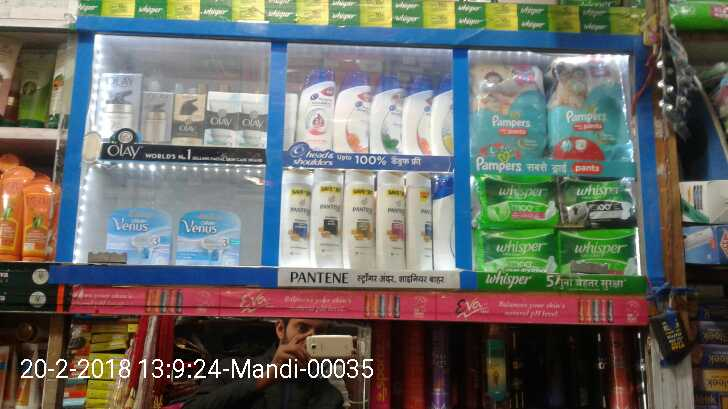venus: (173, 207, 238, 265), (107, 207, 173, 264)
